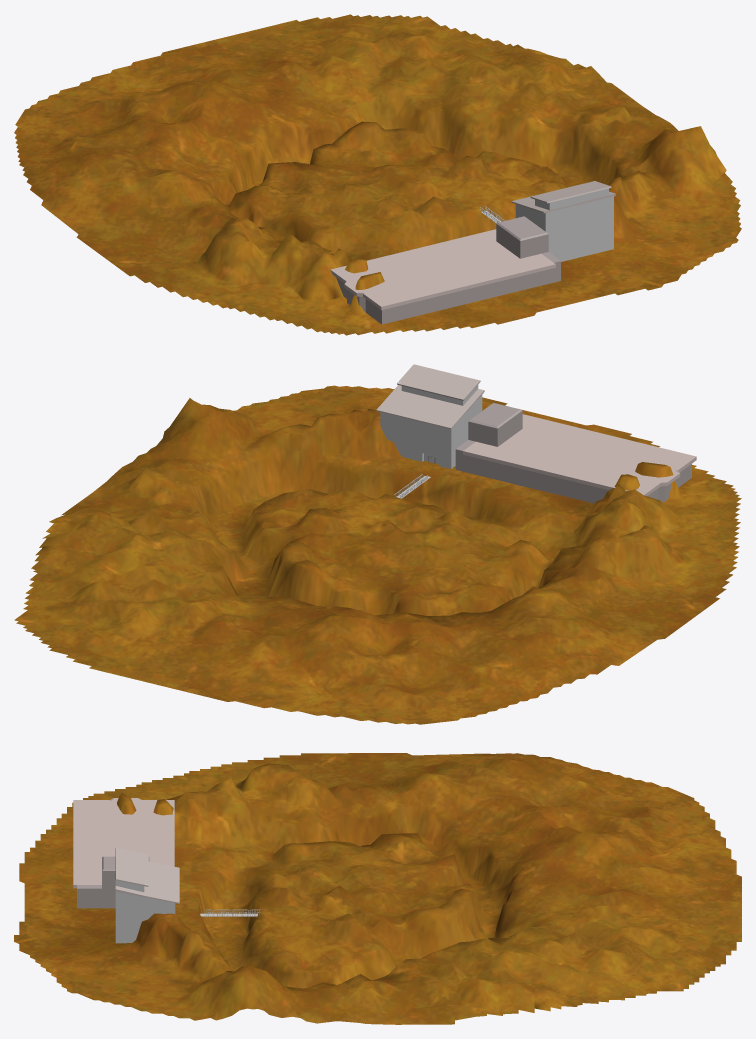
The model's file is FakeLevel_1_ENV.fbx.
3 views of the same model, one above another, from view 1: azimuth 30°, elevation 25°; view 2: azimuth 150°, elevation 25°; view 3: azimuth 270°, elevation 25° (orthographic). The views are drawn at different scales.
Parts seen in each view (by area): view 1: CompletedVowTerrain, BuildingLong, BuildingShort; view 2: CompletedVowTerrain, BuildingLong, BuildingShort; view 3: CompletedVowTerrain, BuildingLong, BuildingShort.
Boxes of the visible parts, box(x1,y1,x2,y2) form: CompletedVowTerrain: box(14, 14, 741, 335); BuildingLong: box(330, 216, 560, 324); BuildingShort: box(511, 181, 615, 261); CompletedVowTerrain: box(14, 385, 741, 724); BuildingLong: box(455, 403, 696, 503); BuildingShort: box(376, 364, 484, 468); CompletedVowTerrain: box(14, 753, 741, 1024); BuildingLong: box(73, 798, 174, 908); BuildingShort: box(115, 848, 179, 943).
Bounding box in the file's own units: 22760 × 3541 × 25767.
